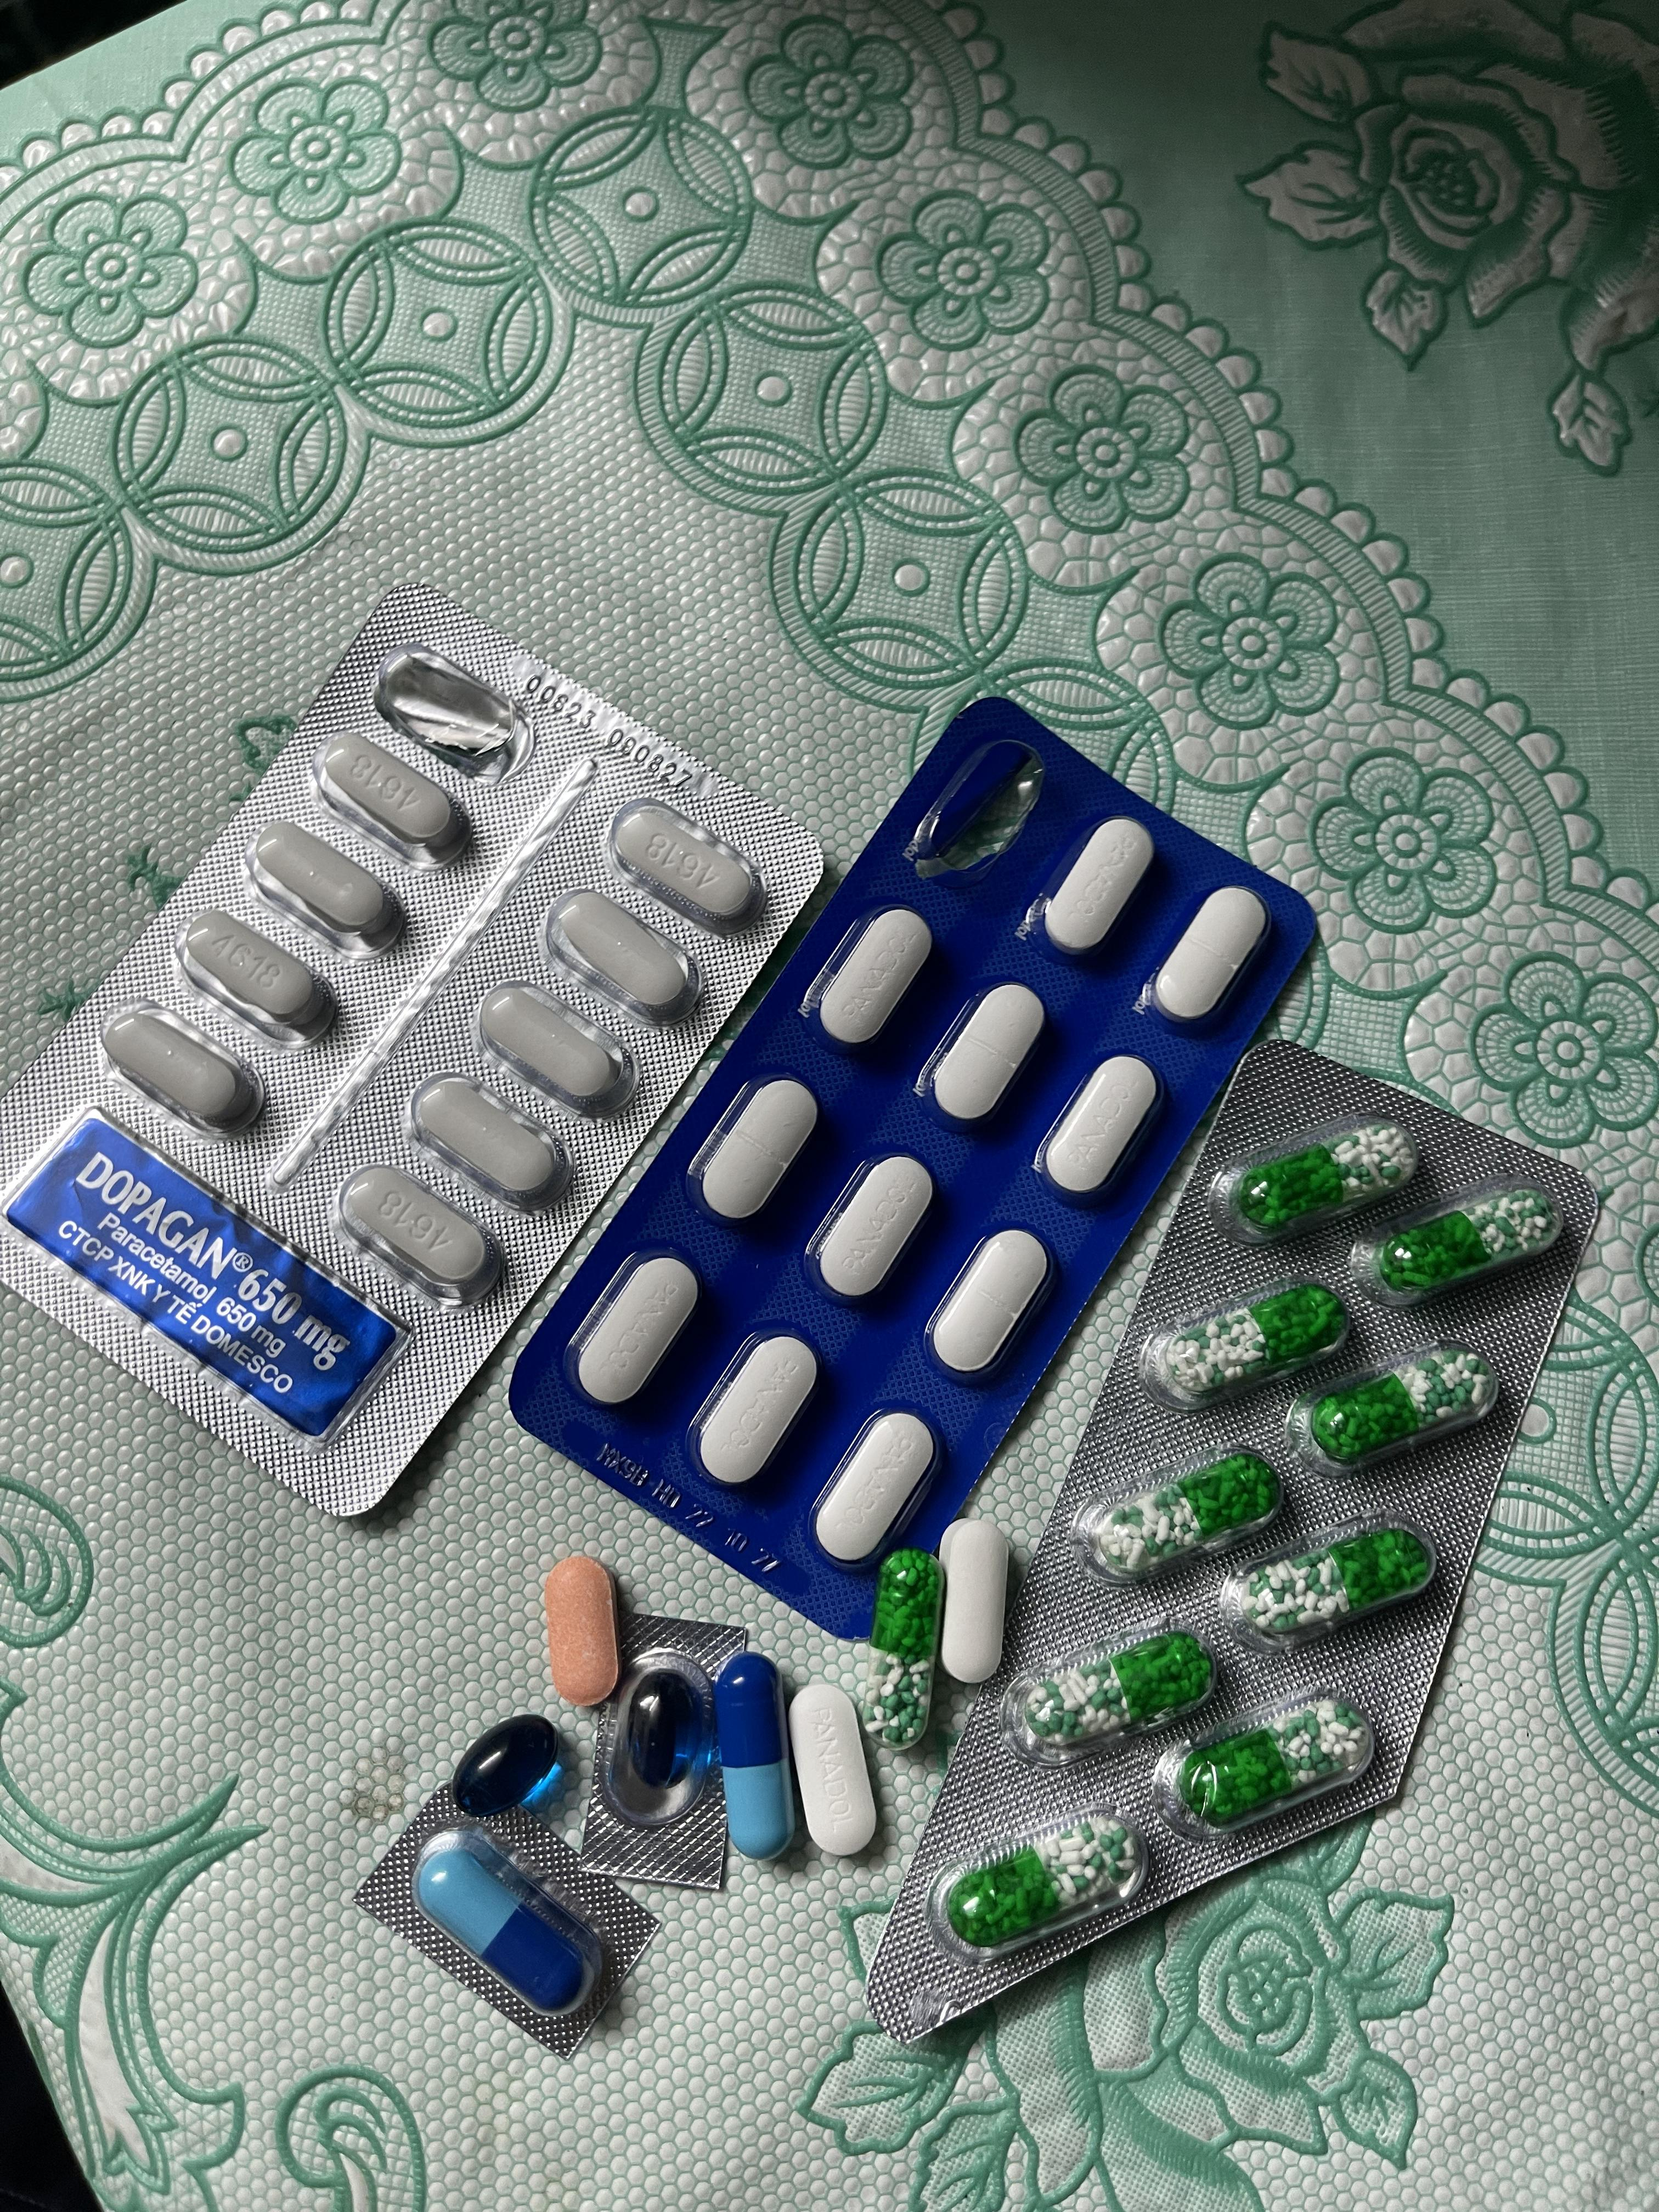Lincomyxin_500mg: (450, 1716, 568, 1825), (627, 1676, 694, 1791)
Loratadine_10mg: (544, 1557, 620, 1707)
Paracetamol_350mg: (565, 1245, 701, 1402), (927, 1228, 1060, 1385), (1035, 1049, 1166, 1204), (812, 1404, 939, 1559), (687, 1075, 816, 1224), (816, 1146, 941, 1299), (699, 1332, 823, 1487), (924, 984, 1047, 1134), (812, 906, 932, 1052), (1154, 883, 1272, 1026), (1040, 817, 1159, 956), (786, 1686, 871, 1860)
Paracetamol_500mg: (335, 1163, 502, 1310), (173, 907, 336, 1055), (408, 1073, 572, 1219), (99, 1000, 267, 1141), (479, 979, 641, 1122), (247, 822, 410, 963), (547, 887, 702, 1031), (317, 728, 477, 867), (622, 808, 751, 923), (938, 1526, 1009, 1677)
Paracetamol_650mg: (1291, 1341, 1499, 1477), (1140, 1273, 1338, 1413), (1227, 1519, 1438, 1648), (945, 1811, 1136, 1946), (1180, 1702, 1373, 1822), (1098, 1458, 1276, 1571), (1375, 1193, 1563, 1298), (1028, 1634, 1204, 1743), (1234, 1129, 1419, 1231), (861, 1559, 938, 1737)
pill: (411, 1827, 605, 2017), (716, 1653, 795, 1858)
